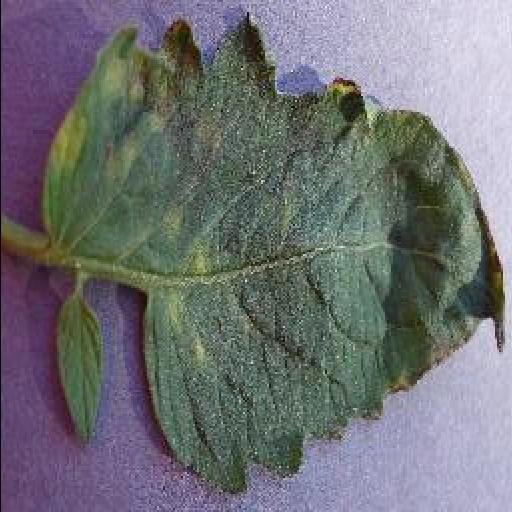disease_tomato: (42, 16, 508, 494)
